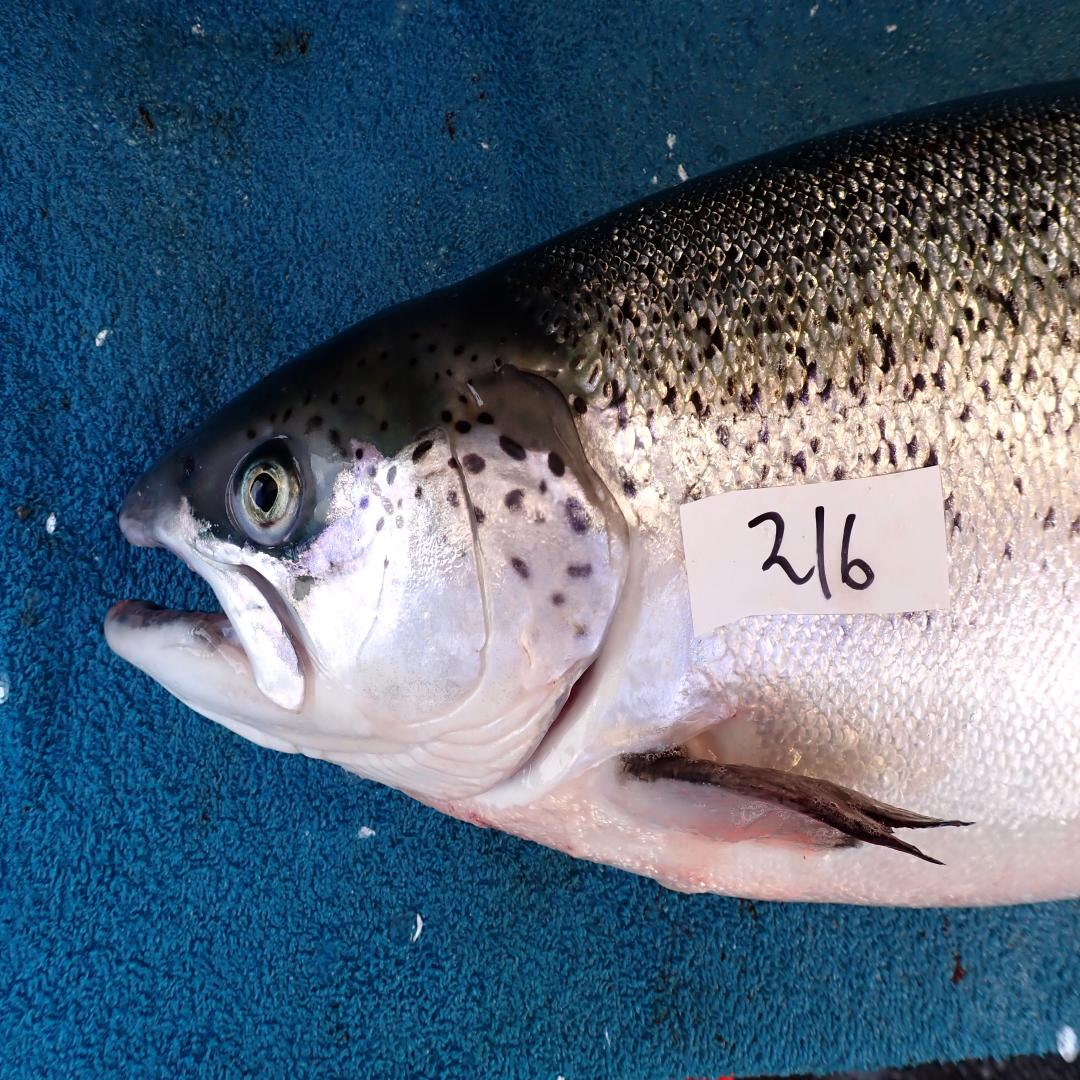roi: (304, 421, 626, 806)
